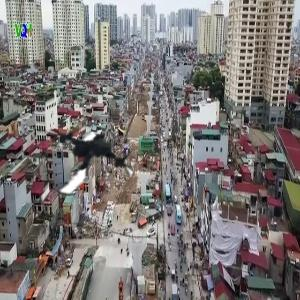drone: (30, 109, 135, 214)
